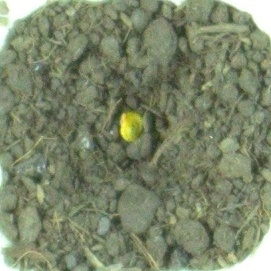pepper seed: (45, 37, 192, 182)
